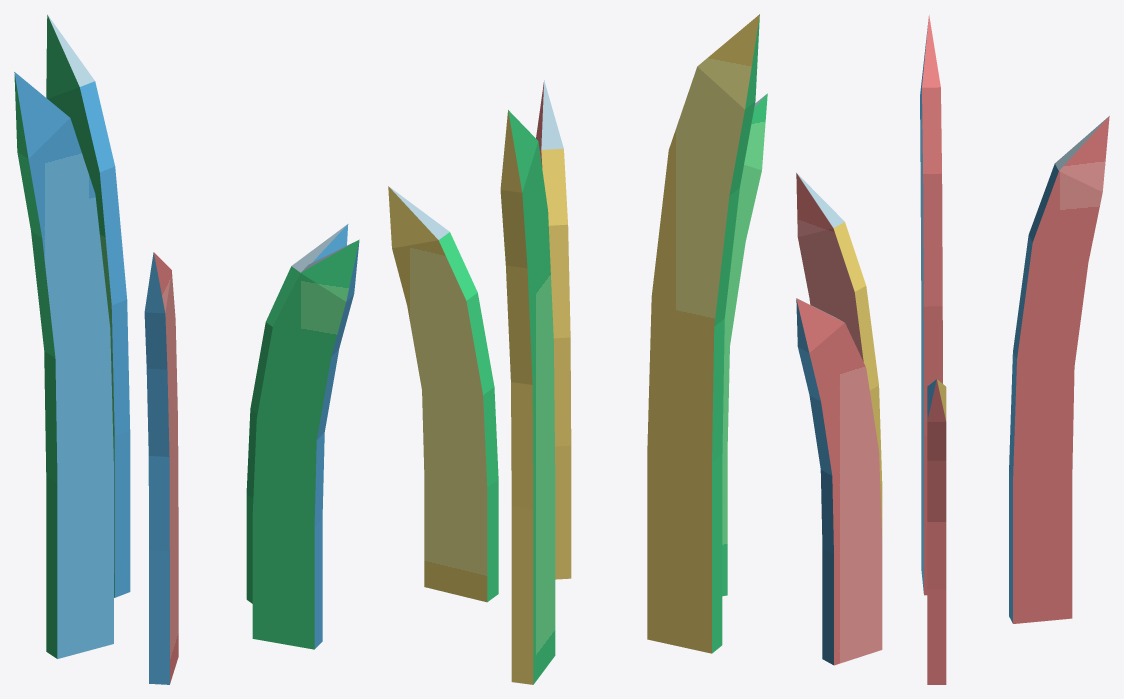
The model's file is Grass.fbx.
The picture shows the model from 3 angles, left to right: view 1: azimuth 30°, elevation 25°; view 2: azimuth 150°, elevation 25°; view 3: azimuth 270°, elevation 25°; orthographic projection. The views are drawn at different scales.
Visible parts, largest first — view 1: Grass; view 2: Grass; view 3: Grass.
Part boxes in pixels (x1,y1,x2,y2): Grass: (14, 14, 359, 684); Grass: (388, 14, 767, 684); Grass: (796, 15, 1109, 684).
Bounding box in the file's own units: 23.26 × 39.05 × 20.59.
Materials: 1 (1 with a texture image).
